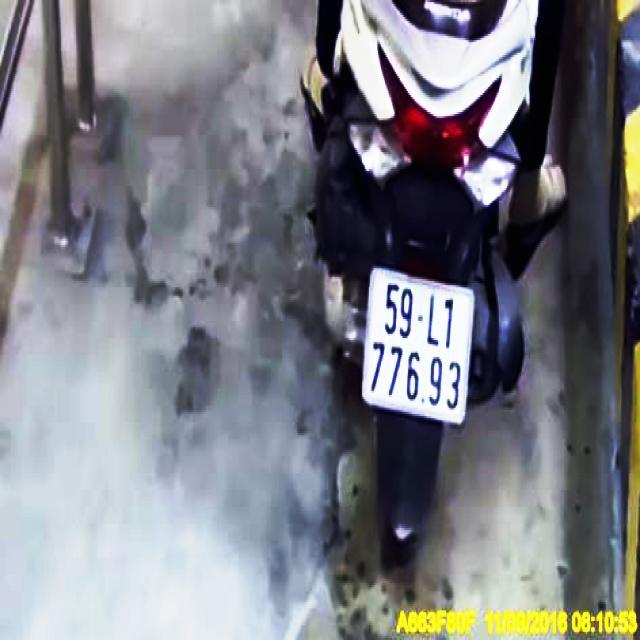license_plate: (365, 271, 473, 424)
